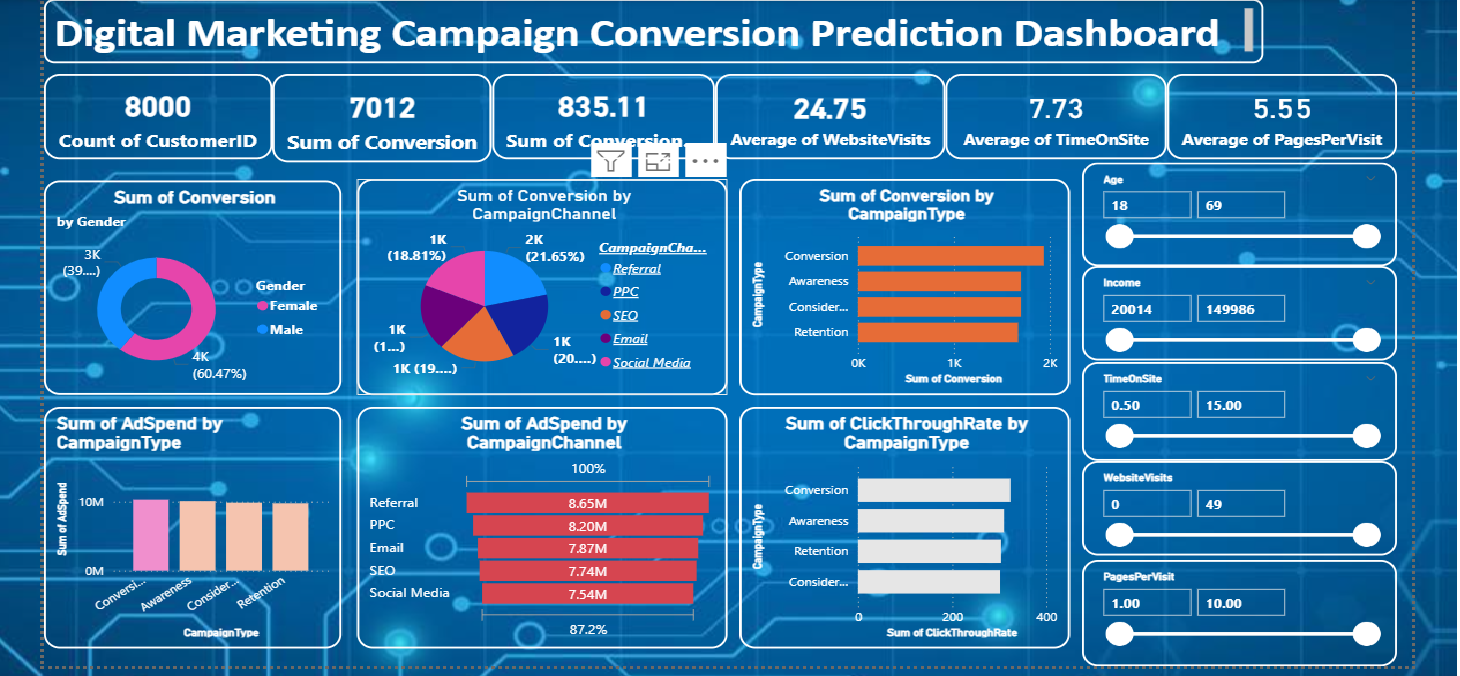

This screenshot's page, from the dashboard's own definition file:
{"tool":"powerbi","page":{"name":"Page 1","canvas":[1280,720],"ordinal":0},"visuals":[{"type":"donutChart","fields":{"Category":["digital_marketing_campaign_dataset.Gender"],"Y":["Sum(digital_marketing_campaign_dataset.Conversion)"]},"box":[0,195.9,278.5,231.5],"z":0},{"type":"pieChart","fields":{"Category":["digital_marketing_campaign_dataset.CampaignChannel"],"Y":["Sum(digital_marketing_campaign_dataset.Conversion)"]},"box":[293.1,194.3,346.5,233.2],"z":1000},{"type":"clusteredBarChart","fields":{"Category":["digital_marketing_campaign_dataset.CampaignType"],"Y":["Sum(digital_marketing_campaign_dataset.Conversion)"]},"box":[650.9,194.3,309.3,233.2],"z":2000},{"type":"clusteredColumnChart","fields":{"Category":["digital_marketing_campaign_dataset.CampaignType"],"Y":["Sum(digital_marketing_campaign_dataset.AdSpend)"]},"box":[0,440.4,278.5,260.7],"z":3000},{"type":"funnel","fields":{"Category":["digital_marketing_campaign_dataset.CampaignChannel"],"Y":["Sum(digital_marketing_campaign_dataset.AdSpend)"]},"box":[293.1,440.4,346.5,260.7],"z":4000},{"type":"card","fields":{"Values":["Sum(digital_marketing_campaign_dataset.Conversion)"]},"box":[213.7,81,205.6,95.5],"z":5000},{"type":"textbox","box":[0,0,1141.6,69.6],"z":6000},{"type":"barChart","fields":{"Category":["digital_marketing_campaign_dataset.CampaignType"],"Y":["Sum(digital_marketing_campaign_dataset.ClickThroughRate)"]},"box":[650.9,440.4,309.3,260.7],"z":7000},{"type":"card","fields":{"Values":["Avg(digital_marketing_campaign_dataset.WebsiteVisits)"]},"box":[628.3,81,215.4,92.3],"z":8000},{"type":"card","fields":{"Values":["Avg(digital_marketing_campaign_dataset.TimeOnSite)"]},"box":[843.6,81,207.3,92.3],"z":9000},{"type":"card","fields":{"Values":["Avg(digital_marketing_campaign_dataset.PagesPerVisit)"]},"box":[1050.9,81,215.4,92.3],"z":10000},{"type":"card","fields":{"Values":["Count(digital_marketing_campaign_dataset.CustomerID)"]},"box":[0,81,213.7,92.3],"z":11000},{"type":"card","fields":{"Values":["Sum(digital_marketing_campaign_dataset.ConversionRate)"]},"box":[419.4,81,208.9,92.3],"z":12000},{"type":"slicer","fields":{"Values":["digital_marketing_campaign_dataset.Age"]},"box":[971.5,176.5,294.7,111.7],"z":13000},{"type":"slicer","fields":{"Values":["digital_marketing_campaign_dataset.Income"]},"box":[971.5,288.2,294.7,102],"z":14000},{"type":"slicer","fields":{"Values":["digital_marketing_campaign_dataset.TimeOnSite"]},"box":[971.5,391.9,294.7,106.9],"z":15000},{"type":"slicer","fields":{"Values":["digital_marketing_campaign_dataset.WebsiteVisits"]},"box":[971.5,498.7,294.7,102],"z":16000},{"type":"slicer","fields":{"Values":["digital_marketing_campaign_dataset.PagesPerVisit"]},"box":[971.5,605.6,294.7,115],"z":17000}]}

Visuals, with their boxes on the page's 1280x720 design canvas (x1, y1, x2, y2). These are canvas units, not pixel positions in the 1460x676 screenshot, which may show the page scaled, cropped or inside an application window:
donutChart - digital_marketing_campaign_dataset.Gender x Sum(digital_marketing_campaign_dataset.Conversion): bbox=[0, 196, 278, 427]
pieChart - digital_marketing_campaign_dataset.CampaignChannel x Sum(digital_marketing_campaign_dataset.Conversion): bbox=[293, 194, 640, 428]
clusteredBarChart - digital_marketing_campaign_dataset.CampaignType x Sum(digital_marketing_campaign_dataset.Conversion): bbox=[651, 194, 960, 428]
clusteredColumnChart - digital_marketing_campaign_dataset.CampaignType x Sum(digital_marketing_campaign_dataset.AdSpend): bbox=[0, 440, 278, 701]
funnel - digital_marketing_campaign_dataset.CampaignChannel x Sum(digital_marketing_campaign_dataset.AdSpend): bbox=[293, 440, 640, 701]
card - Sum(digital_marketing_campaign_dataset.Conversion): bbox=[214, 81, 419, 176]
textbox: bbox=[0, 0, 1142, 70]
barChart - digital_marketing_campaign_dataset.CampaignType x Sum(digital_marketing_campaign_dataset.ClickThroughRate): bbox=[651, 440, 960, 701]
card - Avg(digital_marketing_campaign_dataset.WebsiteVisits): bbox=[628, 81, 844, 173]
card - Avg(digital_marketing_campaign_dataset.TimeOnSite): bbox=[844, 81, 1051, 173]
card - Avg(digital_marketing_campaign_dataset.PagesPerVisit): bbox=[1051, 81, 1266, 173]
card - Count(digital_marketing_campaign_dataset.CustomerID): bbox=[0, 81, 214, 173]
card - Sum(digital_marketing_campaign_dataset.ConversionRate): bbox=[419, 81, 628, 173]
slicer - digital_marketing_campaign_dataset.Age: bbox=[972, 176, 1266, 288]
slicer - digital_marketing_campaign_dataset.Income: bbox=[972, 288, 1266, 390]
slicer - digital_marketing_campaign_dataset.TimeOnSite: bbox=[972, 392, 1266, 499]
slicer - digital_marketing_campaign_dataset.WebsiteVisits: bbox=[972, 499, 1266, 601]
slicer - digital_marketing_campaign_dataset.PagesPerVisit: bbox=[972, 606, 1266, 721]
